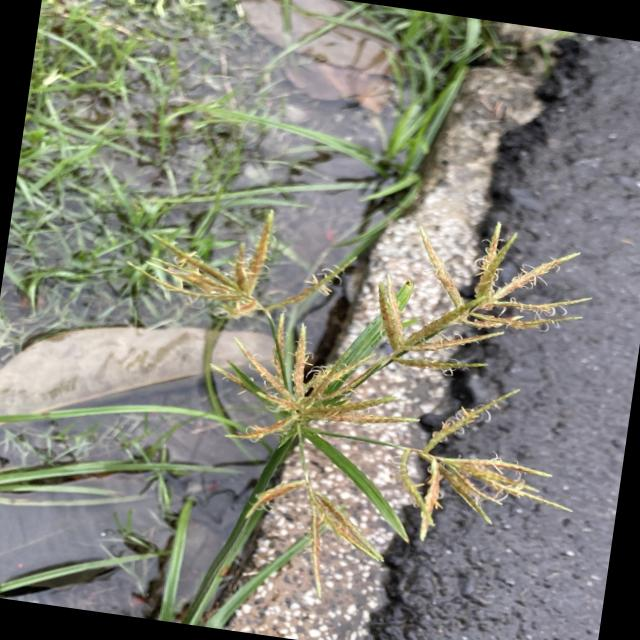cyperus: (68, 166, 616, 638)
